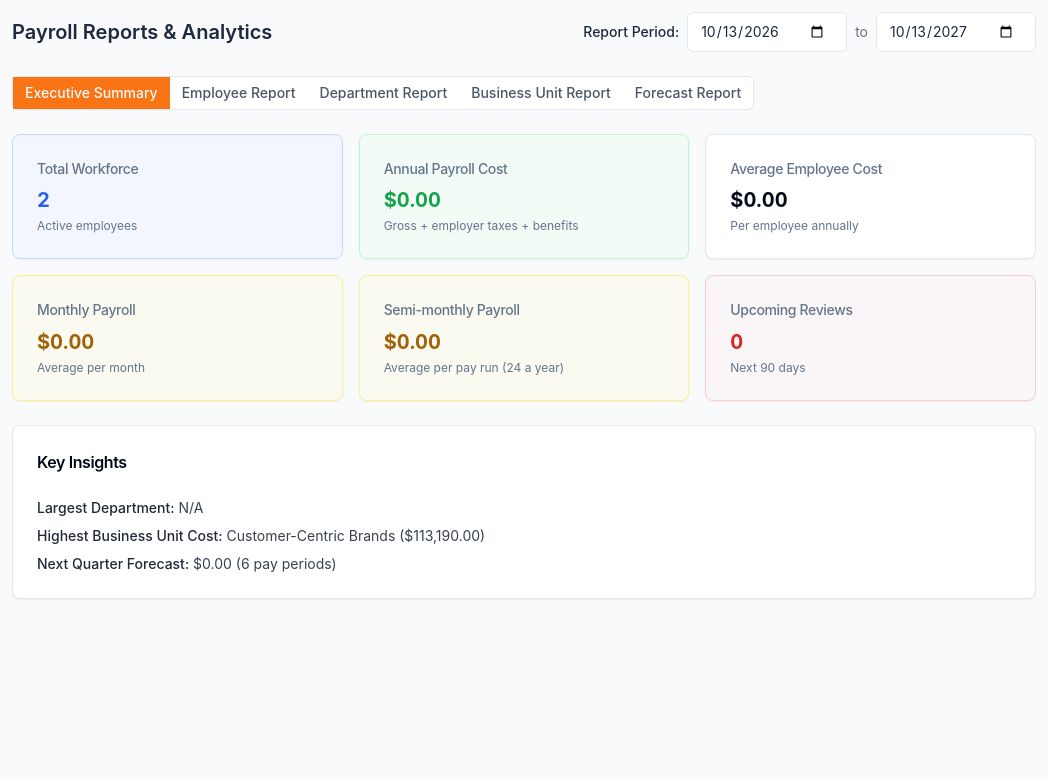
Scenario: PayrollReports employee report › shows the annual salary and the API annual cost
Expected: the text "Semi-monthly Payroll" is shown, [384,300,520,320]
Step 1. Click the button "Employee Report" → (239, 93), box [170,77,308,109]
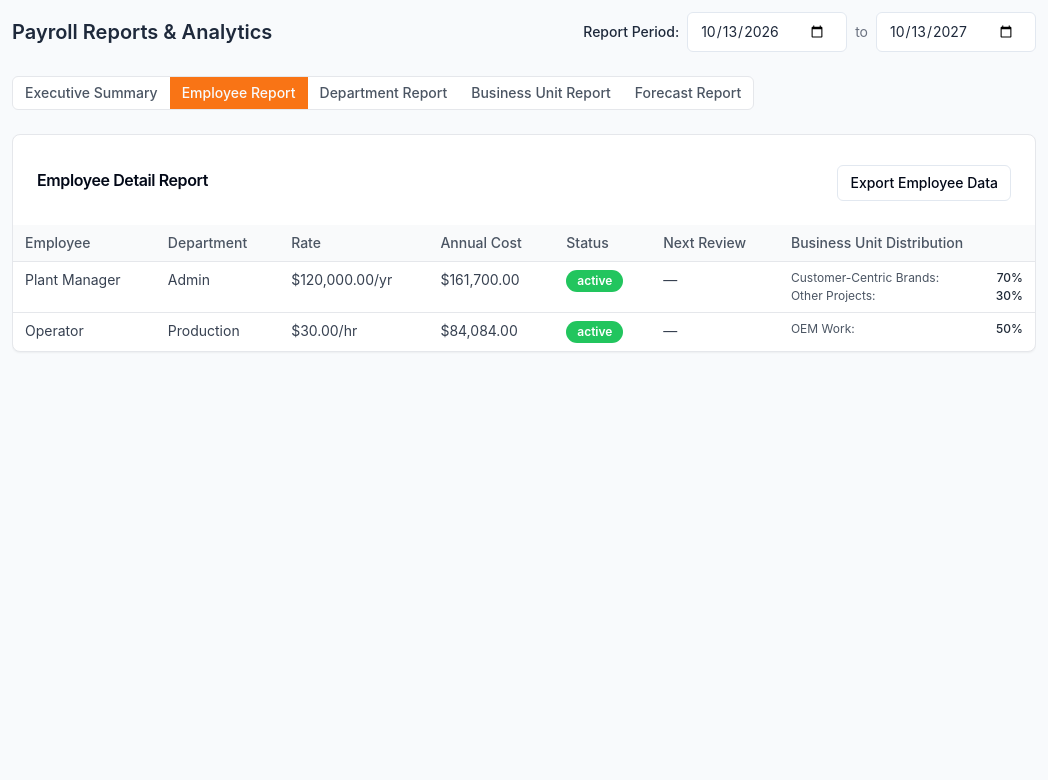
Expected: the text "$120,000.00/yr" is shown, [279,262,428,312]
Expected: the text "$161,700.00" is shown, [428,262,554,312]
Expected: the text "$30.00/hr" is shown, [279,312,428,351]
